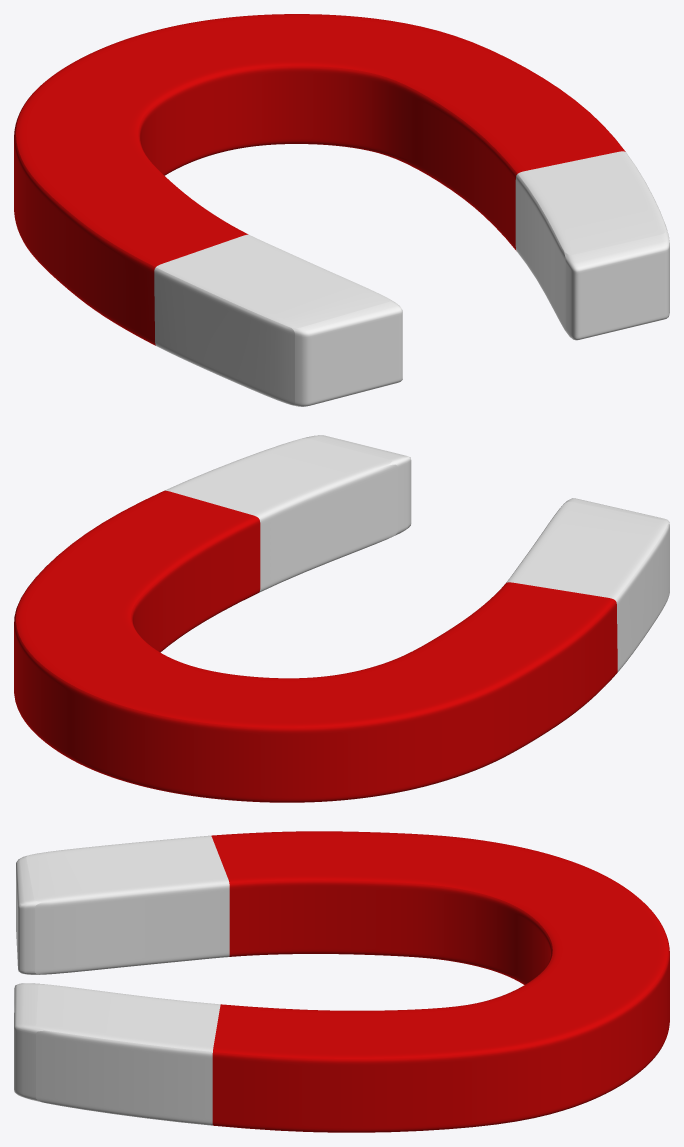
The model's file is Magnet.fbx.
3 renders of one model, top to bottom at view 1: azimuth 30°, elevation 25°; view 2: azimuth 150°, elevation 25°; view 3: azimuth 270°, elevation 25°, orthographic. The views are drawn at different scales.
Visible parts, largest first — view 1: Magnet; view 2: Magnet; view 3: Magnet.
Part boxes in pixels (box(x1,y1,x2,y2)): Magnet: box(14, 14, 669, 406); Magnet: box(14, 435, 669, 802); Magnet: box(14, 831, 669, 1132).
Bounding box in the file's own units: 785 × 121 × 949.
